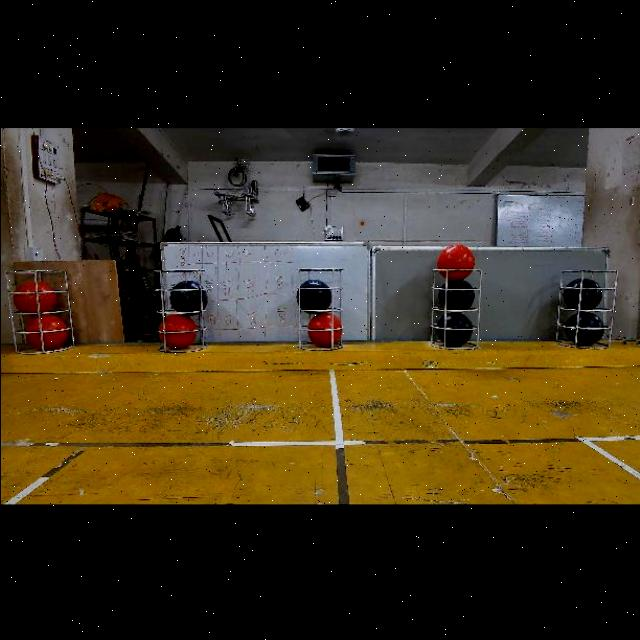P: (563, 309, 604, 344), (435, 310, 472, 346), (168, 278, 206, 313), (562, 276, 601, 308), (295, 278, 330, 312), (438, 278, 474, 308)
R: (12, 279, 56, 312), (25, 313, 66, 348), (436, 242, 474, 279), (158, 312, 196, 348), (307, 310, 341, 346)
S: (3, 266, 75, 354), (551, 266, 617, 350), (152, 266, 208, 352), (428, 266, 482, 348), (294, 266, 342, 348)
